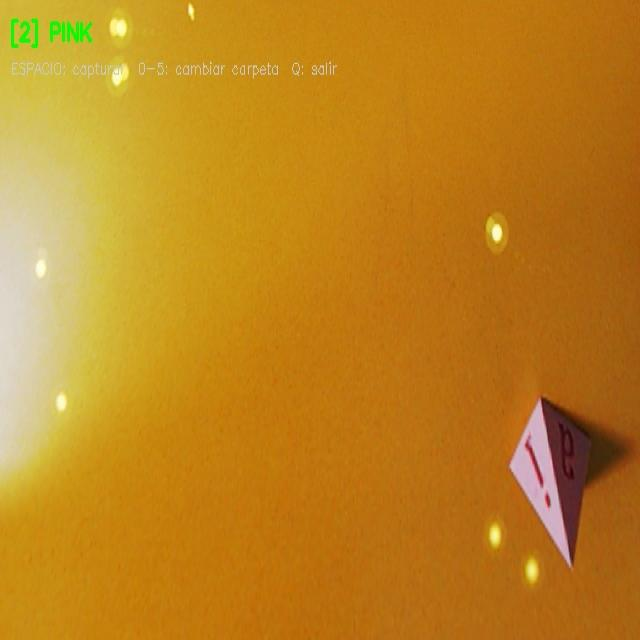pink: (512, 397, 593, 573)
